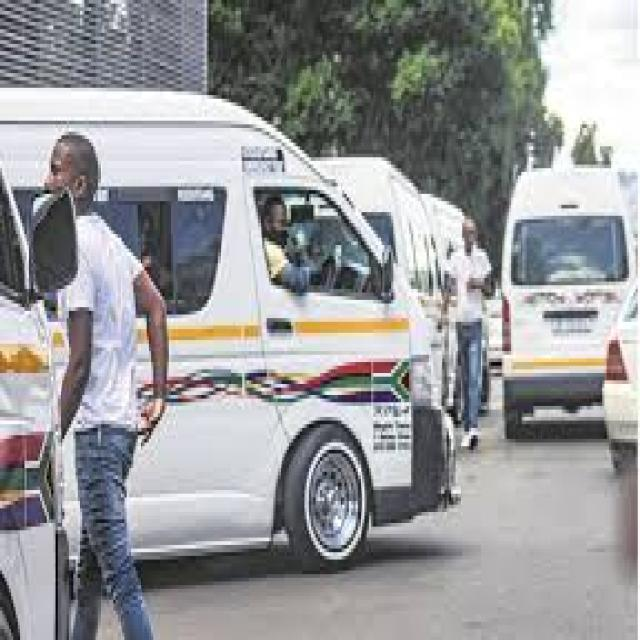MiniBus taxi: (2, 62, 458, 582), (498, 168, 638, 454)
Pedestrians: (42, 128, 184, 629), (451, 212, 491, 461)
